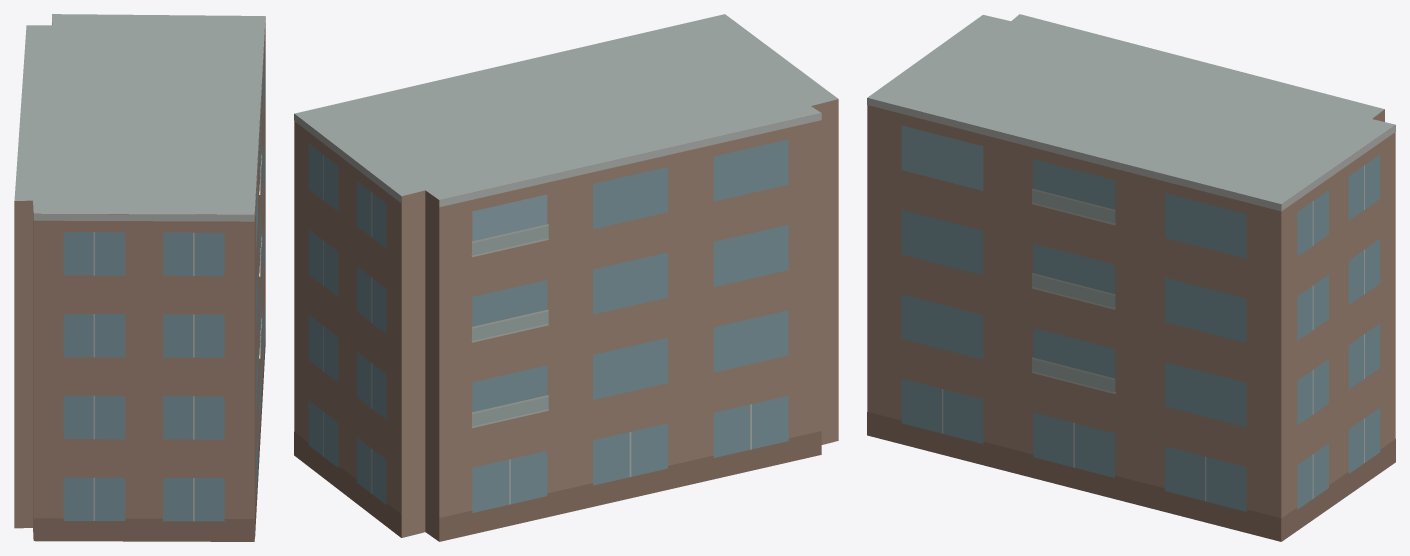
Rendered from survey-upis-32891501.glb.
3 views of the same model, side by side, from view 1: azimuth 30°, elevation 25°; view 2: azimuth 150°, elevation 25°; view 3: azimuth 270°, elevation 25° (orthographic). The views are drawn at different scales.
Visible parts, largest first — view 1: survey-upis-32891501.tmp; view 2: survey-upis-32891501.tmp; view 3: survey-upis-32891501.tmp.
Boxes of the visible parts, bbox=[...] form: survey-upis-32891501.tmp: bbox=[14, 14, 265, 541]; survey-upis-32891501.tmp: bbox=[294, 14, 838, 541]; survey-upis-32891501.tmp: bbox=[867, 14, 1395, 541].
Size of the model in its own units: 13.91 by 11.5 by 16.33.
